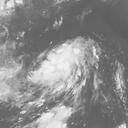cyclone: (34, 37, 92, 90)
